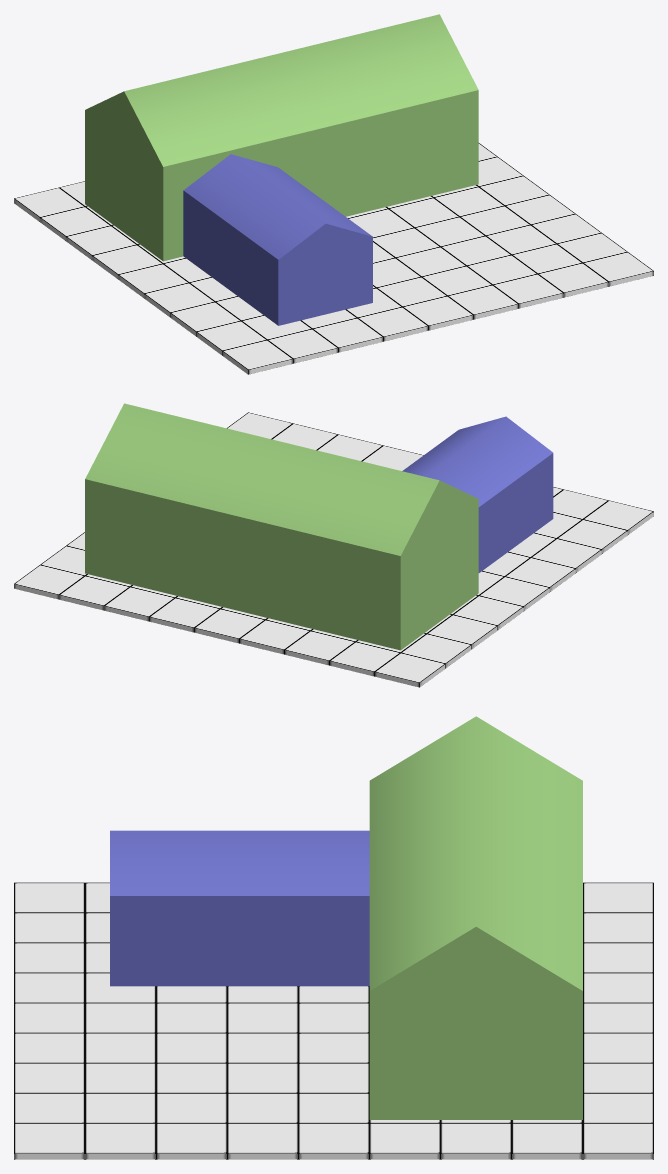
Rendered from XG_Medium-house.glb.
The picture shows the model from 3 angles, top to bottom: view 1: azimuth 30°, elevation 25°; view 2: azimuth 150°, elevation 25°; view 3: azimuth 270°, elevation 25°; orthographic projection. The views are drawn at different scales.
Parts seen in each view (by area): view 1: building_7m_3m_001, building_7m_3m_002, 1m_base_block_1527, 1m_base_block_1524, 1m_base_block_1521, 1m_base_block_1523, 1m_base_block_1526, 1m_base_block_1520, 1m_base_block_1522, 1m_base_block_1528, 1m_base_block_1525, 1m_base_block_1510 (+32 smaller); view 2: building_7m_3m_001, building_7m_3m_002, 1m_base_block_1536, 1m_base_block_1529, 1m_base_block_1535, 1m_base_block_1530, 1m_base_block_1533, 1m_base_block_1531, 1m_base_block_1532, 1m_base_block_1534, 1m_base_block_1537, 1m_base_block_1511 (+16 smaller); view 3: building_7m_3m_001, building_7m_3m_002, 1m_base_block_1513, 1m_base_block_1514, 1m_base_block_1515, 1m_base_block_1516, 1m_base_block_1517, 1m_base_block_1518, 1m_base_block_1519, 1m_base_block_1528, 1m_base_block_1537, 1m_base_block_1459 (+38 smaller).
Boxes of the visible parts, x1=… form: building_7m_3m_001: x1=85, y1=14, x2=478, y2=261; building_7m_3m_002: x1=183, y1=154, x2=372, y2=325; 1m_base_block_1527: x1=222, y1=340, x2=293, y2=374; 1m_base_block_1524: x1=313, y1=318, x2=383, y2=352; 1m_base_block_1521: x1=448, y1=285, x2=518, y2=319; 1m_base_block_1523: x1=358, y1=307, x2=428, y2=341; 1m_base_block_1526: x1=268, y1=329, x2=338, y2=363; 1m_base_block_1520: x1=493, y1=274, x2=563, y2=308; 1m_base_block_1522: x1=403, y1=296, x2=473, y2=330; 1m_base_block_1528: x1=583, y1=252, x2=653, y2=286; 1m_base_block_1525: x1=538, y1=263, x2=608, y2=297; 1m_base_block_1510: x1=170, y1=302, x2=240, y2=336; building_7m_3m_001: x1=85, y1=403, x2=478, y2=650; building_7m_3m_002: x1=402, y1=416, x2=553, y2=572; 1m_base_block_1536: x1=374, y1=653, x2=445, y2=687; 1m_base_block_1529: x1=104, y1=587, x2=174, y2=621; 1m_base_block_1535: x1=329, y1=642, x2=400, y2=676; 1m_base_block_1530: x1=149, y1=598, x2=219, y2=632; 1m_base_block_1533: x1=284, y1=631, x2=355, y2=665; 1m_base_block_1531: x1=194, y1=609, x2=264, y2=643; 1m_base_block_1532: x1=239, y1=620, x2=309, y2=654; 1m_base_block_1534: x1=59, y1=576, x2=129, y2=610; 1m_base_block_1537: x1=14, y1=565, x2=84, y2=599; 1m_base_block_1511: x1=401, y1=634, x2=471, y2=668; building_7m_3m_001: x1=369, y1=716, x2=582, y2=1119; building_7m_3m_002: x1=110, y1=830, x2=369, y2=986; 1m_base_block_1513: x1=440, y1=1123, x2=511, y2=1159; 1m_base_block_1514: x1=369, y1=1123, x2=440, y2=1159; 1m_base_block_1515: x1=298, y1=1123, x2=369, y2=1159; 1m_base_block_1516: x1=227, y1=1123, x2=298, y2=1159; 1m_base_block_1517: x1=156, y1=1123, x2=227, y2=1159; 1m_base_block_1518: x1=511, y1=1123, x2=582, y2=1159; 1m_base_block_1519: x1=85, y1=1123, x2=156, y2=1159; 1m_base_block_1528: x1=14, y1=1123, x2=84, y2=1159; 1m_base_block_1537: x1=583, y1=1123, x2=653, y2=1159; 1m_base_block_1459: x1=298, y1=1063, x2=369, y2=1093.
Size of the model in its own units: 9 by 3.15 by 9.
3 materials, 1 textured.
